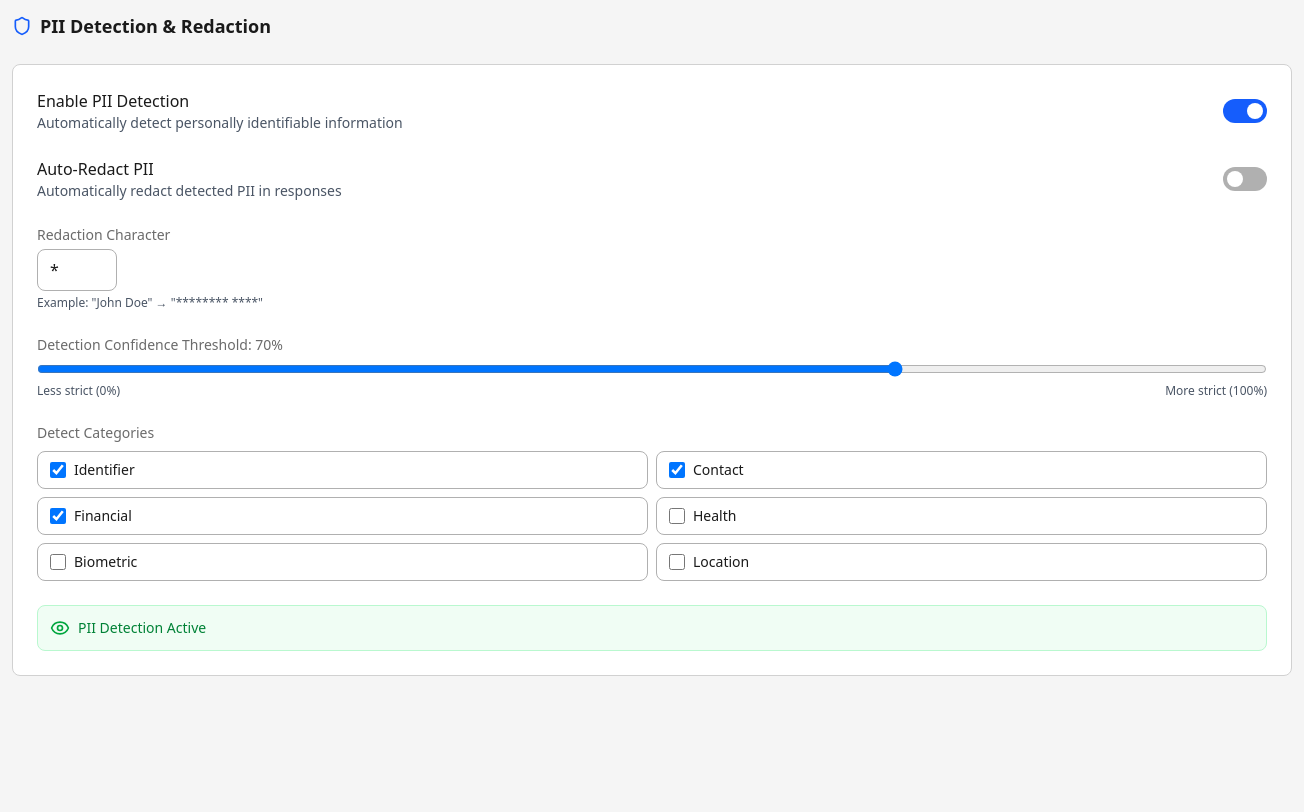
Test: PIIRedactionSettings › Save Functionality › hides Save Changes button after save
The width and height of the screenshot is (1304, 812).
Click the button without text in the row of "Enable PII Detection" at (1245, 111), box [1223,99,1267,123]
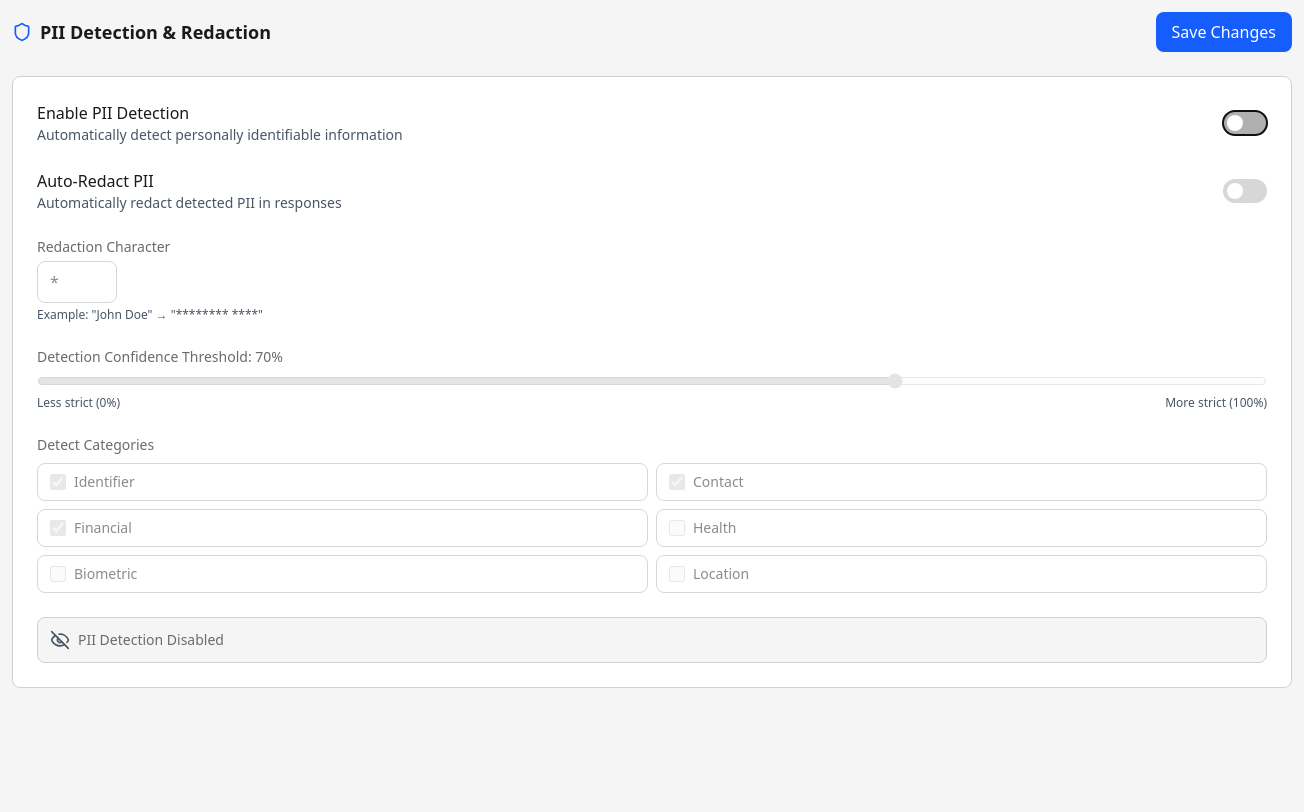
expect the button "Save Changes" is shown: met
Click the button "Save Changes" at (1224, 32), box [1156,12,1292,52]
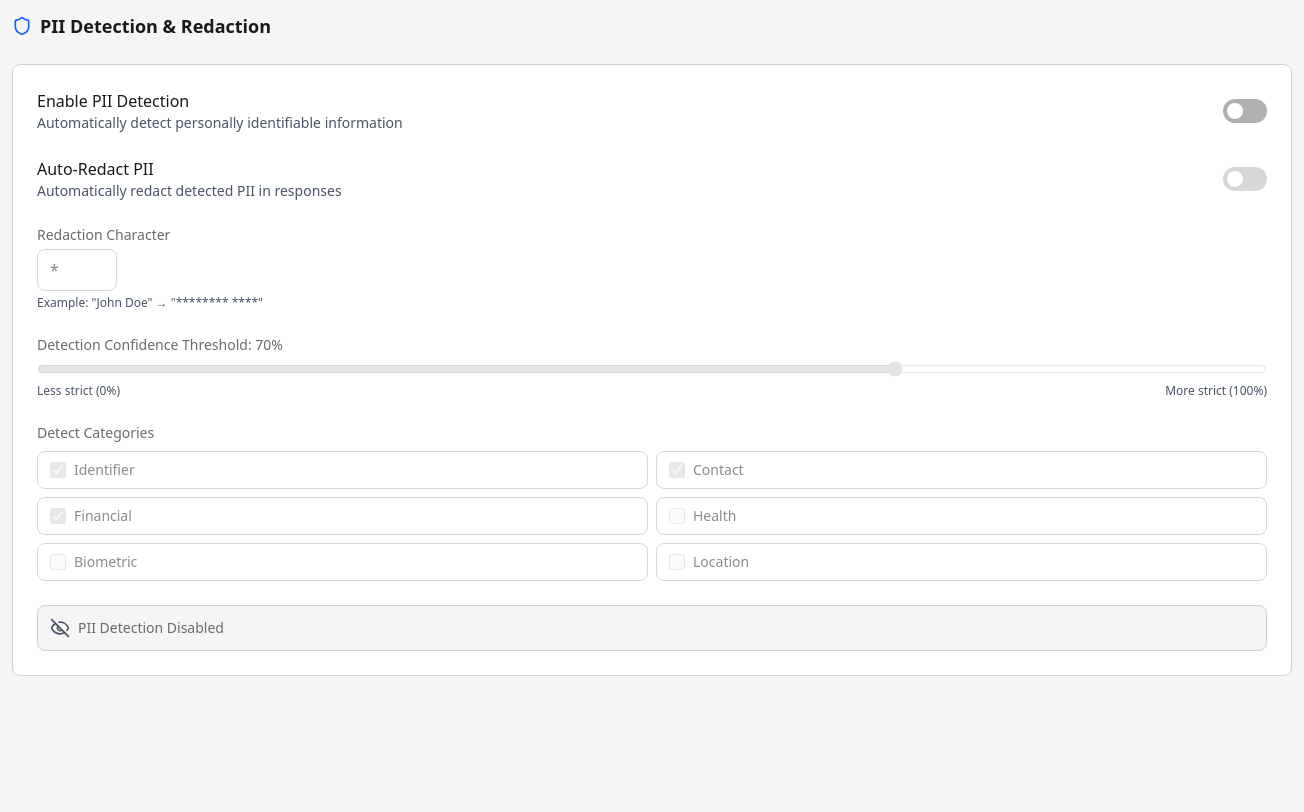
expect the button "Save Changes" is gone: met
